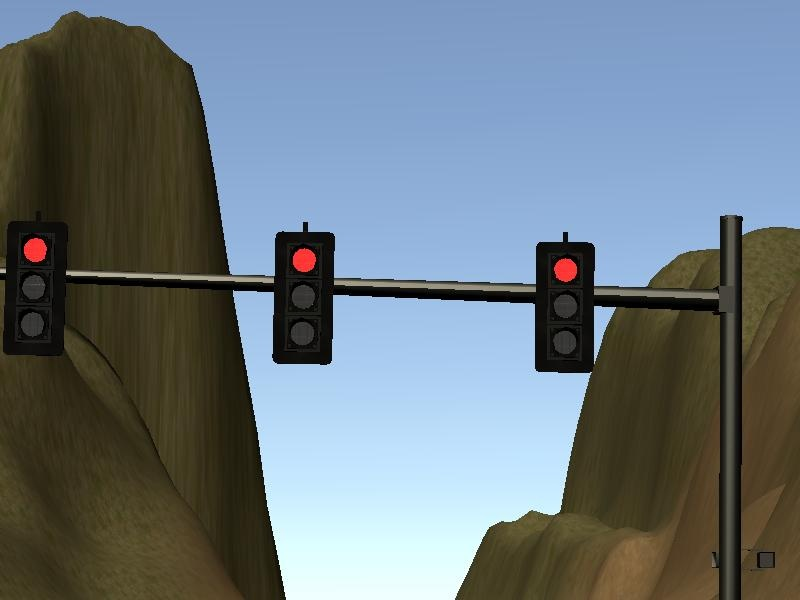RED: (270, 233, 335, 365), (532, 242, 597, 374), (4, 223, 65, 352)
